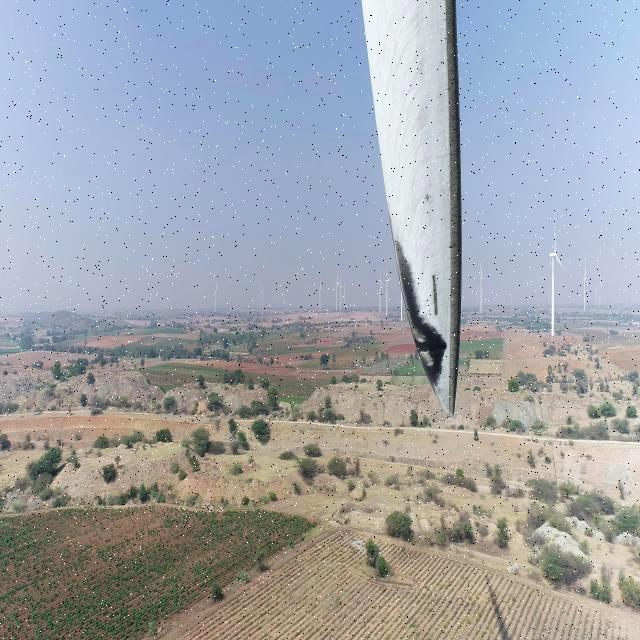Dirt: (364, 1, 459, 408)
Oil LEAKAGE: (394, 242, 447, 382)
